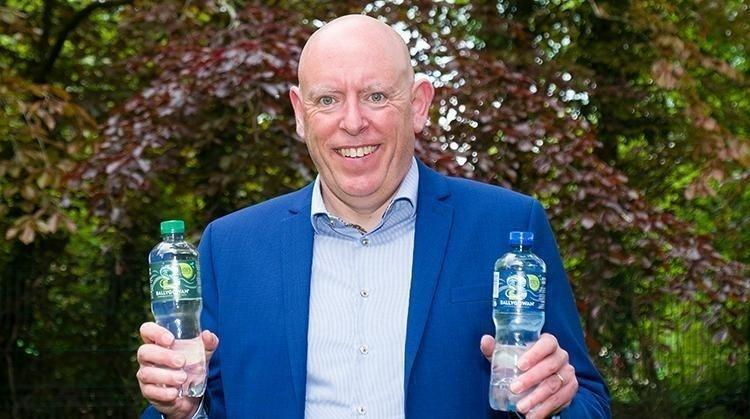bottle-plastic: (487, 229, 549, 415), (147, 218, 208, 400)
